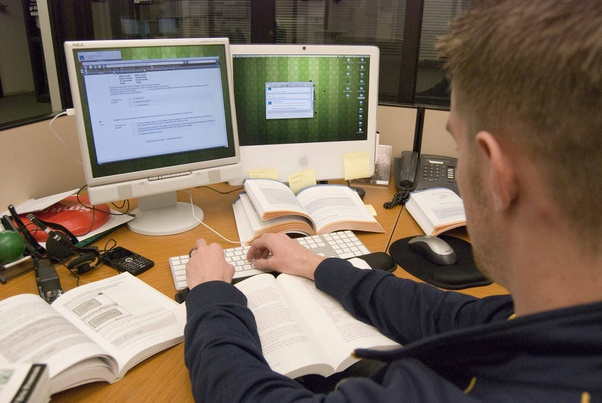Open Book: (196, 257, 434, 374), (1, 273, 191, 392), (231, 178, 386, 244), (403, 187, 493, 236)
